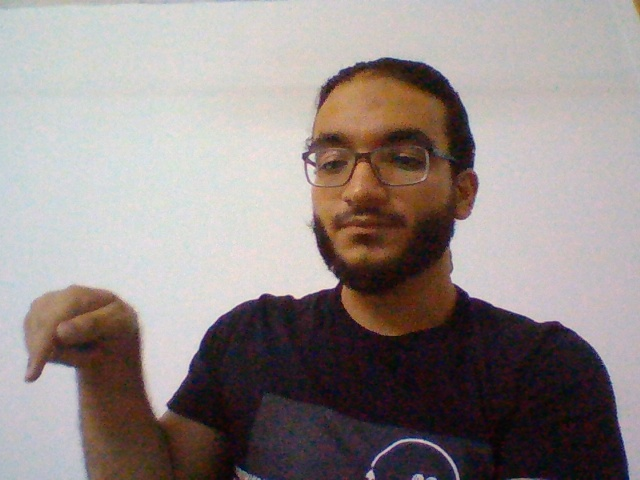Yes: (18, 282, 154, 383)
